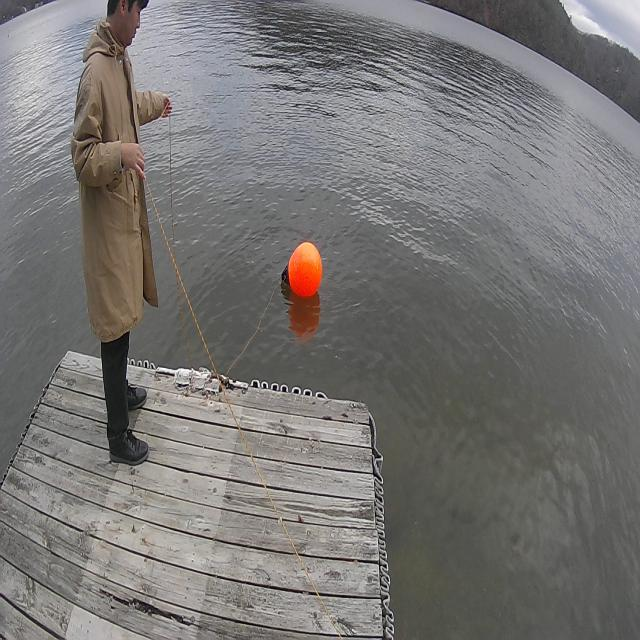Buoy: (278, 238, 324, 318)
